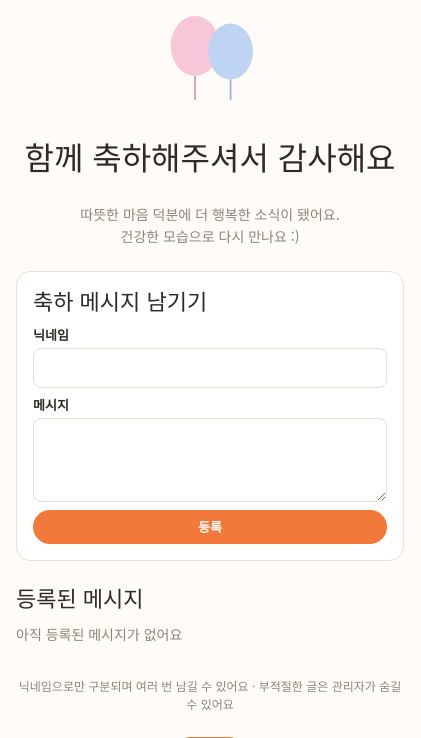
Test: ThankYouScreen › shows a generic error when posting fails
This screenshot has width=421, height=738.
Expected: the text "아직 등록된 메시지가 없어요" is shown, [16,624,182,644]
Type "이모" into the field labelled "닉네임" at (210, 368), box [33,348,387,388]
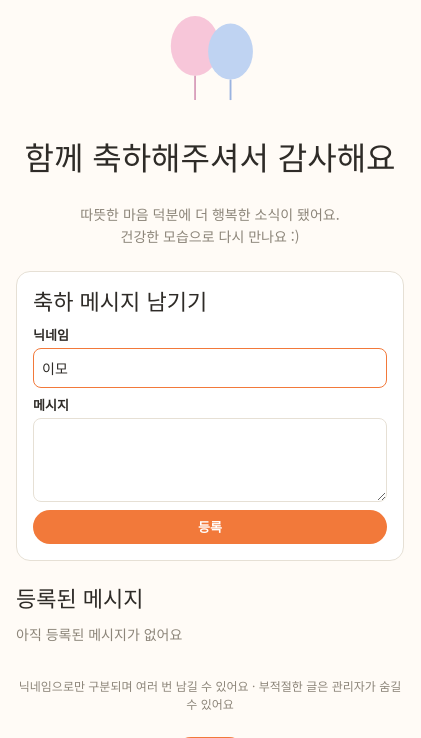
Type "축하해요" into the text box labelled "메시지" at (210, 460), box [33,418,387,502]
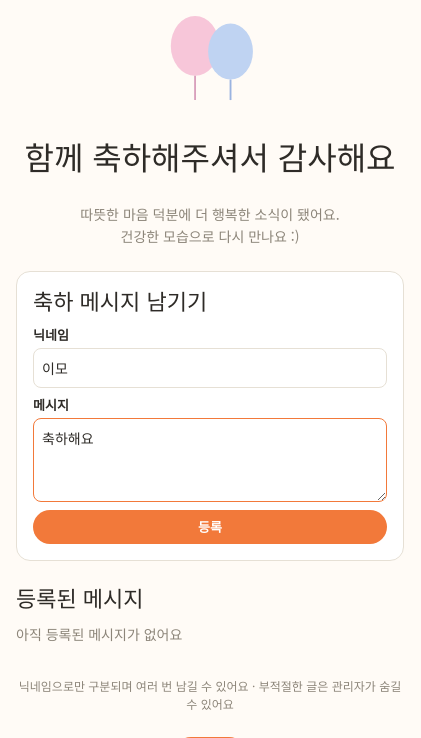
Click the button "등록" at (210, 527), box [33,510,387,544]
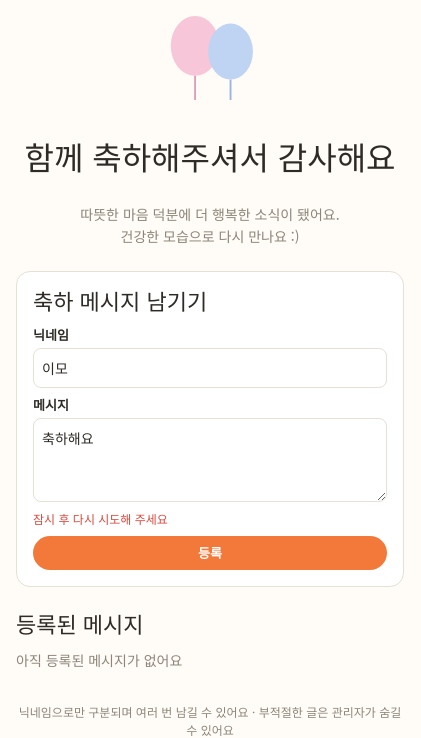
Now the message reads "잠시 후 다시 시도해 주세요", box [33,510,168,527]
